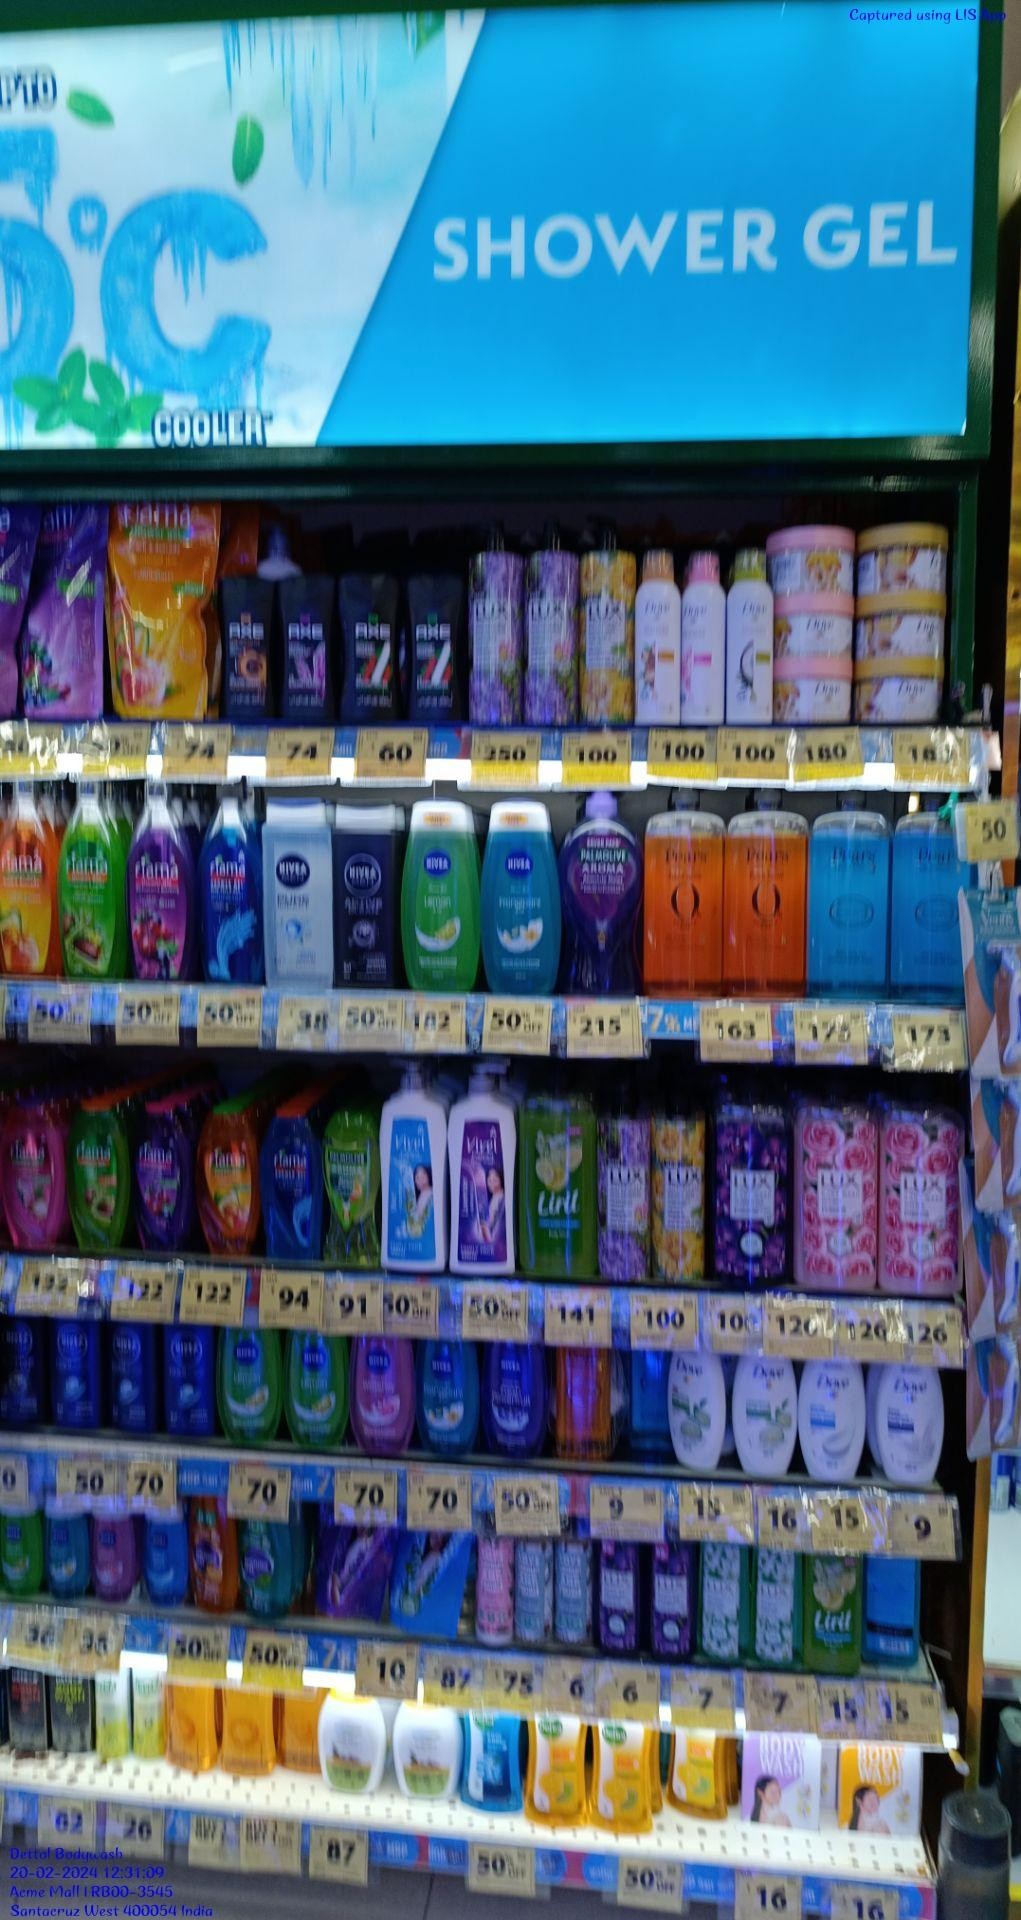Dettol_Bodywash_Cool: (461, 1713, 523, 1811)
Dettol_Bodywash_Refresh: (593, 1722, 654, 1836), (530, 1717, 589, 1823)
Dove_Deep_Moisture_Body_Wash_250ML: (876, 1365, 945, 1487)
Dove_Gentle_Exfoliating_Body_Wash_250ML: (799, 1361, 867, 1479)
Dove_Refreshing_Body_Wash_250ML: (733, 1354, 796, 1477), (669, 1347, 725, 1477)
Fiama_Shower_Gel_Lemongrass_and_Jojoba_250ML: (70, 1096, 130, 1244)
Fiama_Shower_Gel_Patchouli_and_Macadamia_250ML: (3, 1097, 63, 1247)
Fiama_Shower_Gel_Peach_and_Avocado_250ML: (197, 1106, 258, 1257)
Get_Real_Shower_Gel_Moisturising_Glycerin_300ML: (222, 1688, 276, 1775), (169, 1681, 218, 1771)
Joy_Shower_Gel_Mandarin_and_Lemongrass_250ML: (190, 1497, 236, 1611)
Joy_Shower_Gel_Mint_and_Eucalyptus_250ML: (241, 1517, 293, 1618)
Liril_Lime_and_Tea_Tree_Oil_Body_Wash_250ML: (808, 1554, 862, 1675)
Lux_Black_Orchid_Scent_and_Juniper_Oil_Body_Wash_245ML: (649, 1543, 696, 1662), (597, 1539, 640, 1658)
Lux_Body_Wash_Skin_Detox_Freesia_Scent_and_Alove_Vera_245ML: (701, 1539, 748, 1662), (756, 1549, 800, 1665)
Nivea_Shower_Gel_Frangipani_and_Oil_250ML: (485, 806, 556, 990), (418, 1337, 476, 1453)
Nivea_Shower_Gel_Fresh_Powerfruit_250ML: (481, 1340, 545, 1458)
Nivea_Shower_Gel_Lemon_and_Oil_250ML: (397, 800, 479, 992), (218, 1323, 281, 1444), (287, 1332, 344, 1451)
Nivea_Shower_Gel_Waterlily_and_Oil_250ML: (349, 1333, 414, 1451)
Palmolive_Aroma_Morning_Tonic_Shower_Gel_250ML: (323, 1109, 377, 1267)
